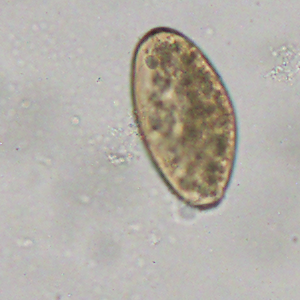Fasciola_hepatica_egg: (129, 24, 240, 212)
